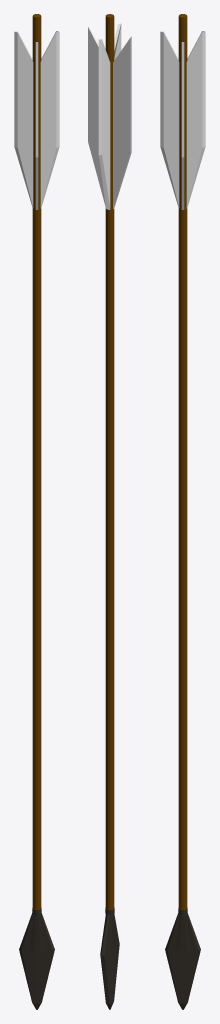
Rendered from Arrow.fbx.
The picture shows the model from 3 angles, left to right: view 1: azimuth 90°, elevation 25°; view 2: azimuth 150°, elevation 25°; view 3: azimuth 270°, elevation 25°; orthographic projection.
Visible parts, largest first — view 1: Arrow; view 2: Arrow; view 3: Arrow.
Part boxes in pixels (left/top/right/bottom): Arrow: left=14, top=14, right=59, bottom=1009; Arrow: left=88, top=14, right=131, bottom=1009; Arrow: left=160, top=14, right=205, bottom=1009.
Bounding box in the file's own units: 3.77 × 84.46 × 3.47.
